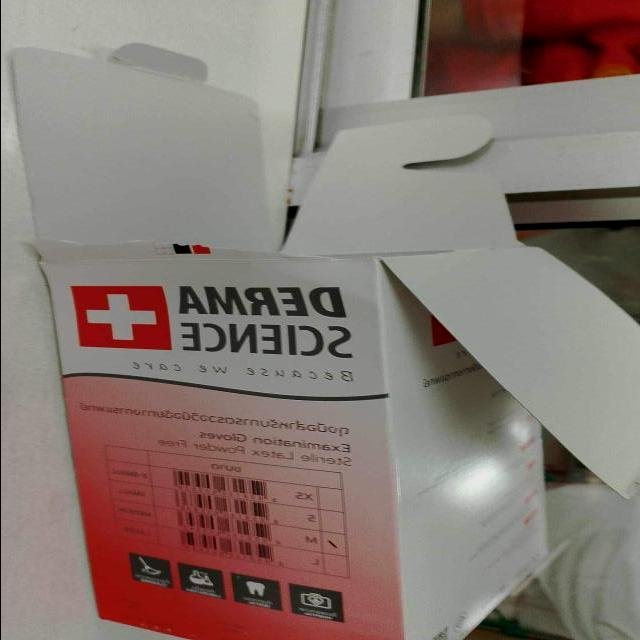General: (9, 25, 639, 639)
